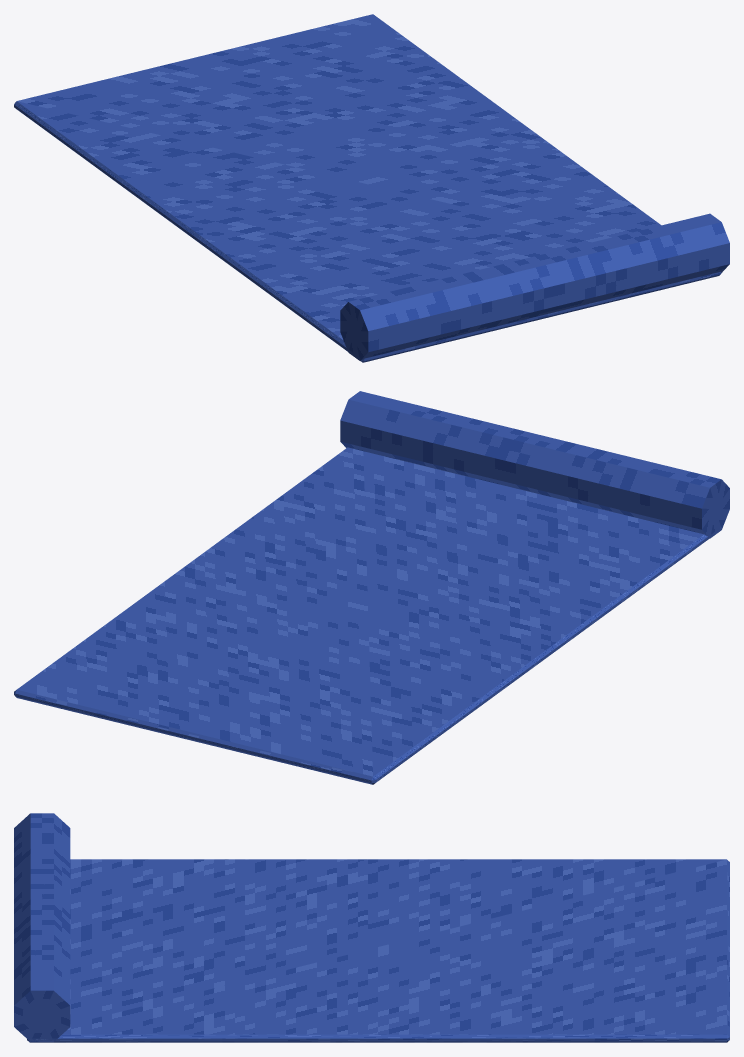
File: tr_rollmat.glb
The picture shows the model from 3 angles, top to bottom: view 1: azimuth 30°, elevation 25°; view 2: azimuth 150°, elevation 25°; view 3: azimuth 270°, elevation 25°; orthographic projection.
Visible parts, largest first — view 1: block_pad, block_rolled end; view 2: block_pad, block_rolled end; view 3: block_pad, block_rolled end.
Boxes of the visible parts, left/top/right/bottom form: block_pad: left=14, top=14, right=721, bottom=362; block_rolled end: left=340, top=213, right=729, bottom=360; block_pad: left=14, top=447, right=721, bottom=784; block_rolled end: left=340, top=391, right=729, bottom=538; block_pad: left=27, top=859, right=729, bottom=1042; block_rolled end: left=14, top=813, right=70, bottom=1041.
Size of the model in its own units: 0.55 by 0.077 by 0.937.
Materials: 1 (1 with a texture image).
